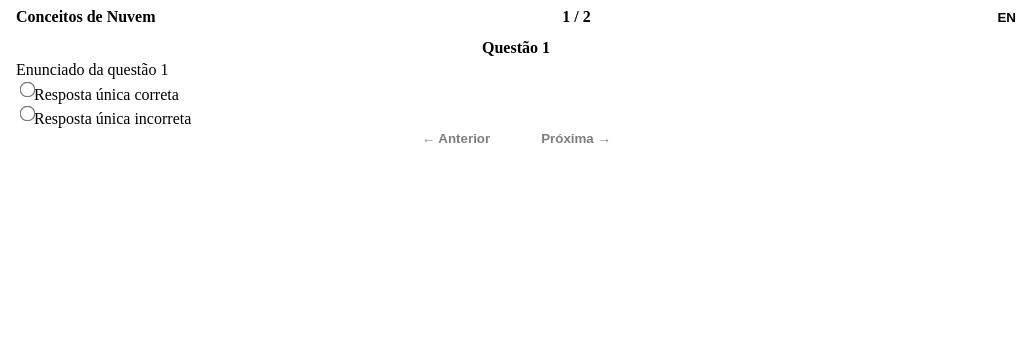
Test case: na sessão por domínio, pontua como incorreta a resposta que omitir uma opção correta
Click the text "Resposta única correta". click: click(106, 94)
box: [34,86,179,103]
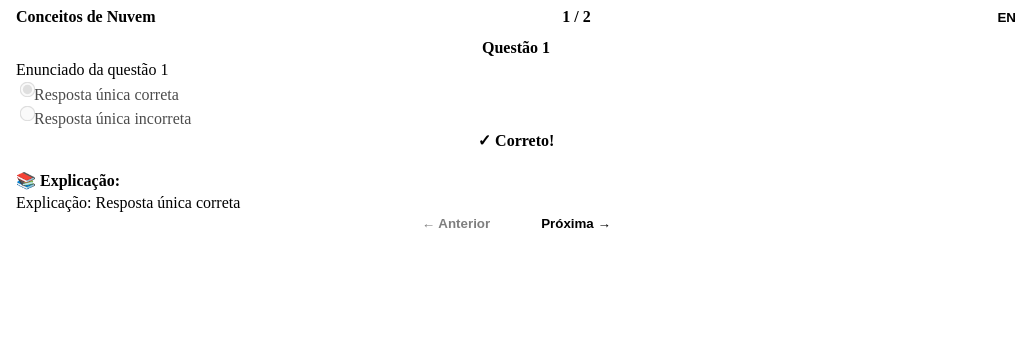
Click the button "Próxima →". click: click(576, 223)
box: [516,216,636,231]
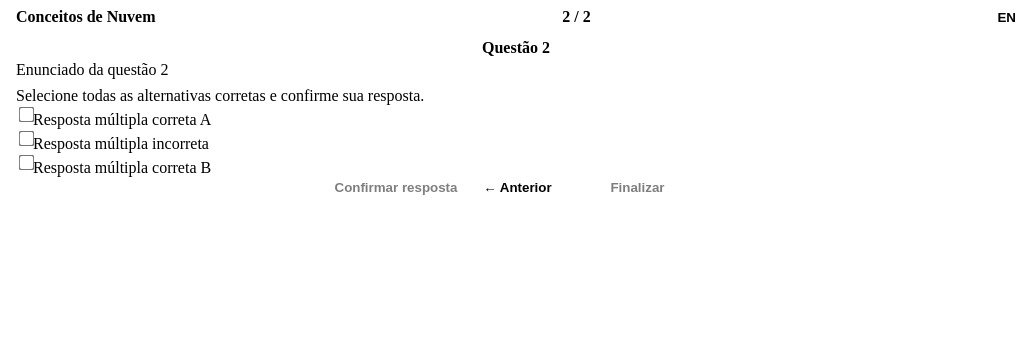
Now the text "Enunciado da questão 2" is shown, box [16,61,168,78]
Click the checkbox labelled "Resposta múltipla correta A". click: click(26, 115)
box: [19,107,34,123]
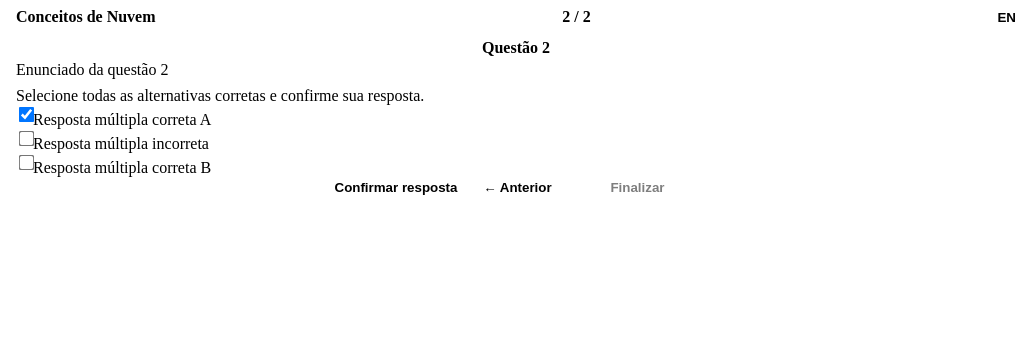
Click the button "Confirmar resposta". click: click(396, 188)
box: [334,180,458,196]
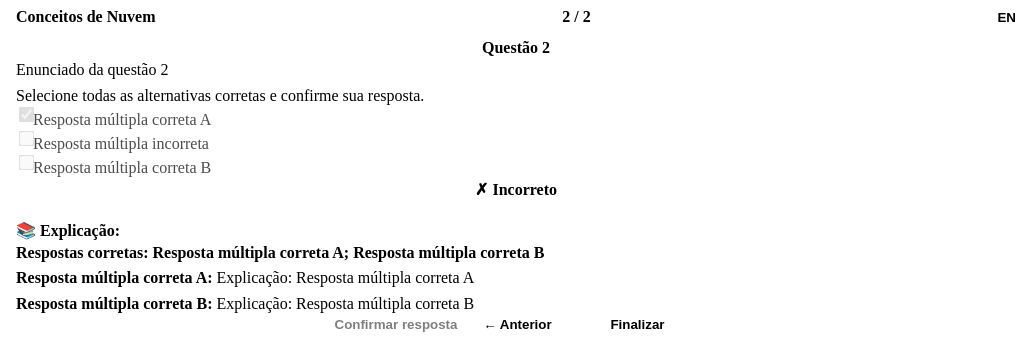
Now the text "✗ Incorreto" is shown, box [475,182,557,198]
Click the button "Finalizar". click: click(638, 324)
box: [578,316,698,332]
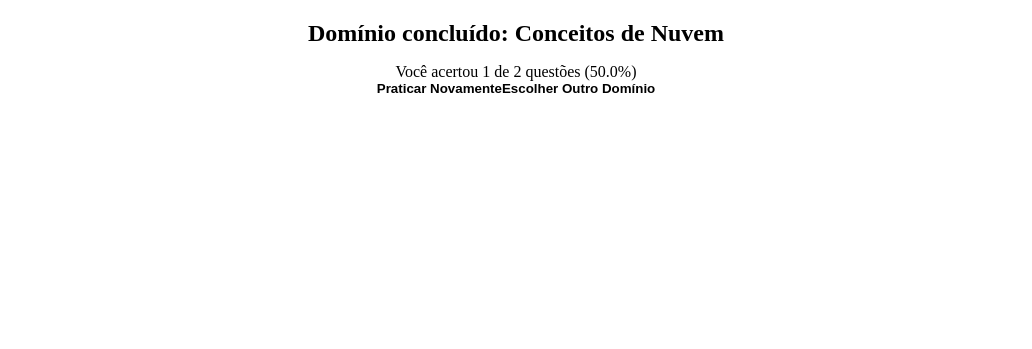
Now the text "Você acertou 1 de 2 questões (50.0%)" is shown, box [396,63,636,80]
